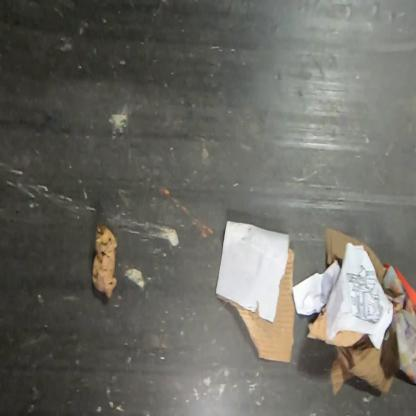cardboard: (215, 219, 296, 363), (330, 334, 396, 397), (324, 227, 390, 286), (306, 308, 366, 348)
